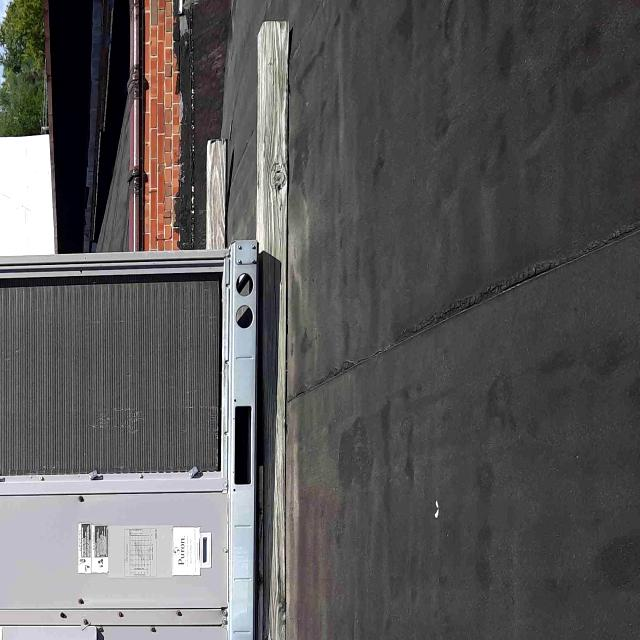RTU: (0, 233, 278, 640)
